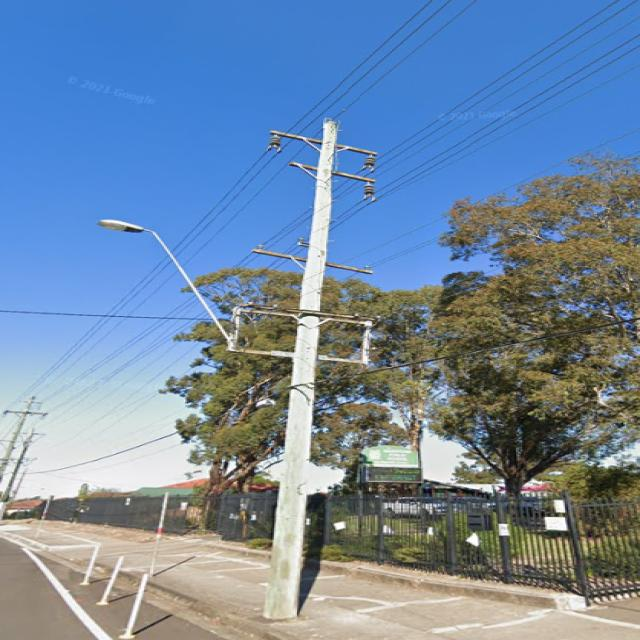HV-transmission: (268, 129, 377, 196)
crossarm: (250, 246, 374, 274), (290, 161, 376, 199), (265, 126, 380, 154)
streetlight: (95, 217, 230, 350)
timber-pole: (259, 118, 340, 619)
